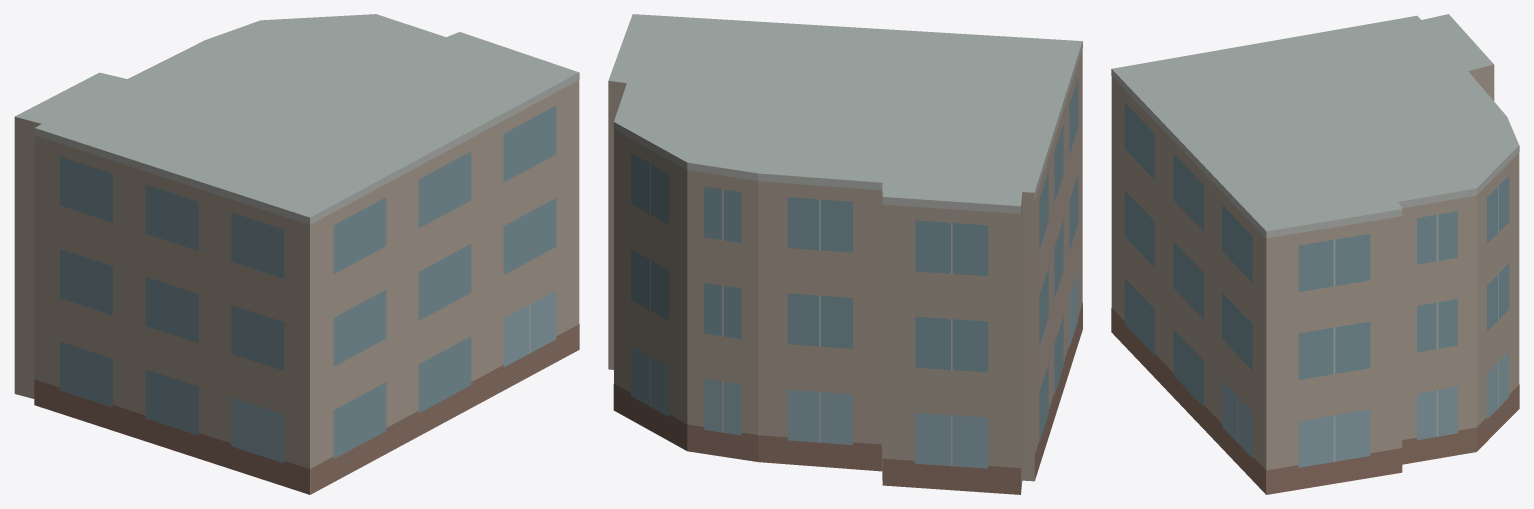
The model's file is survey-upis-32758787.glb.
3 renders of one model, left to right at view 1: azimuth 30°, elevation 25°; view 2: azimuth 150°, elevation 25°; view 3: azimuth 270°, elevation 25°, orthographic. The views are drawn at different scales.
Parts seen in each view (by area): view 1: survey-upis-32758787.tmp; view 2: survey-upis-32758787.tmp; view 3: survey-upis-32758787.tmp.
Boxes of the visible parts, x1,y1,x2,y2 form: survey-upis-32758787.tmp: (14,14,579,494); survey-upis-32758787.tmp: (608,14,1082,494); survey-upis-32758787.tmp: (1111,14,1519,494).
Bounding box in the file's own units: 16.21 × 9.15 × 12.85.
